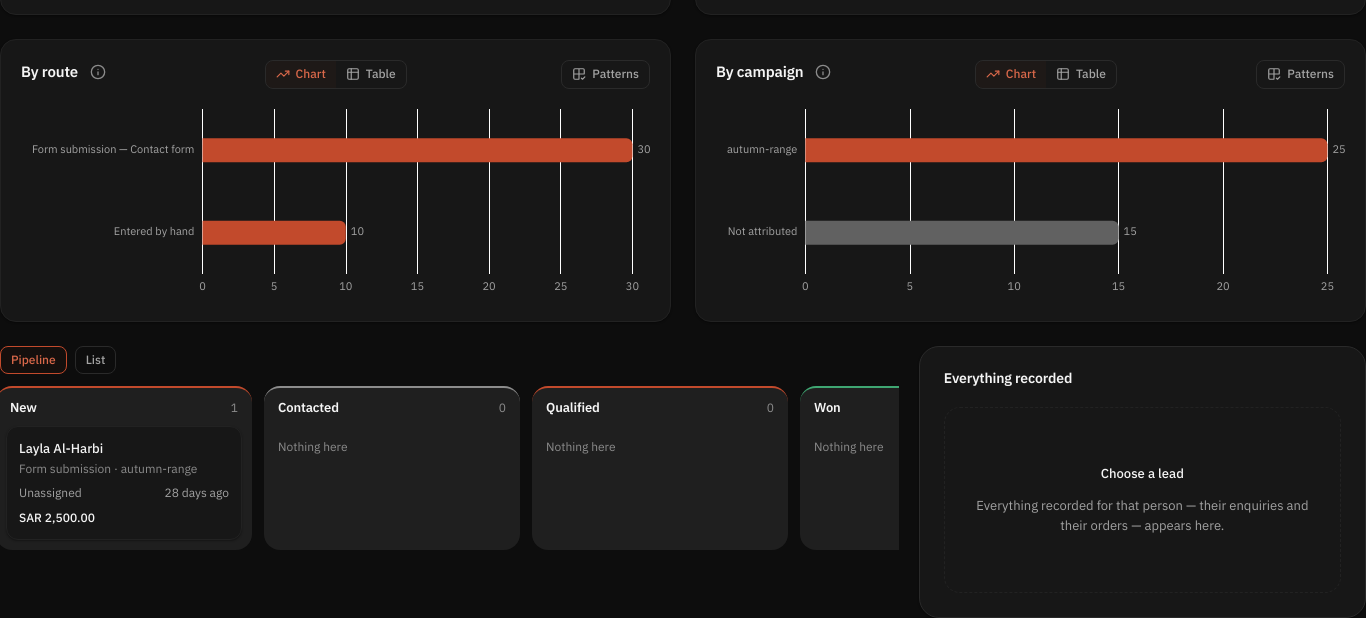
it: the Lead Center › divides wins by closed leads, and says so beside the figure
(page scrolled)
Click the button "List".
click(96, 360)  # box [75, 346, 116, 374]
(page scrolled)
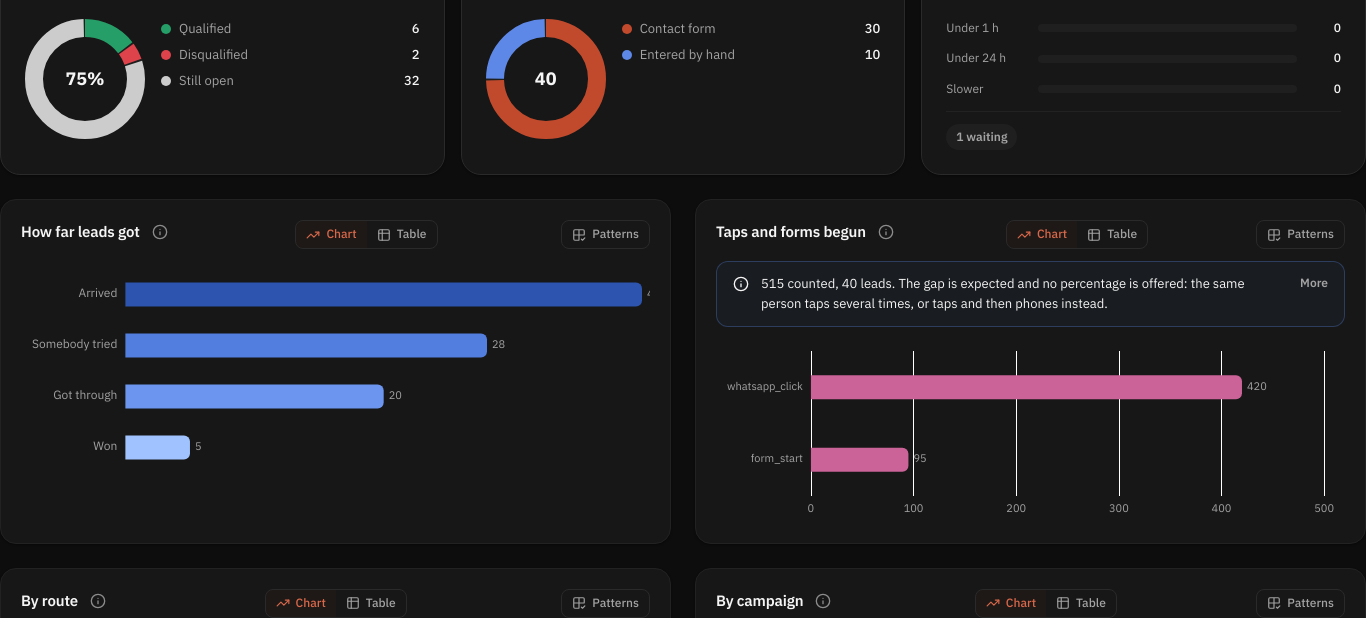
Click the button "Table" in the row of "How far leads got".
click(402, 234)  # box [367, 221, 437, 248]
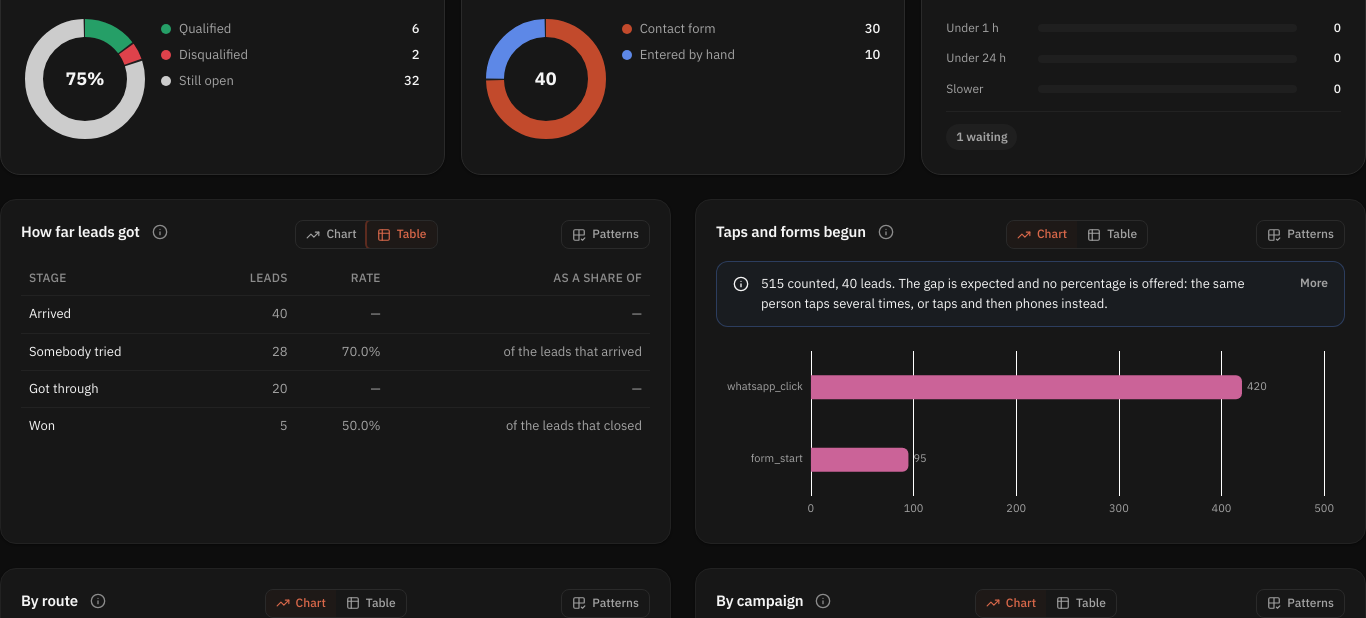
expect the text "50.0%" is shown: met, box [296, 407, 389, 444]
expect the text "of the leads that closed" is shown: met, box [389, 407, 650, 444]
